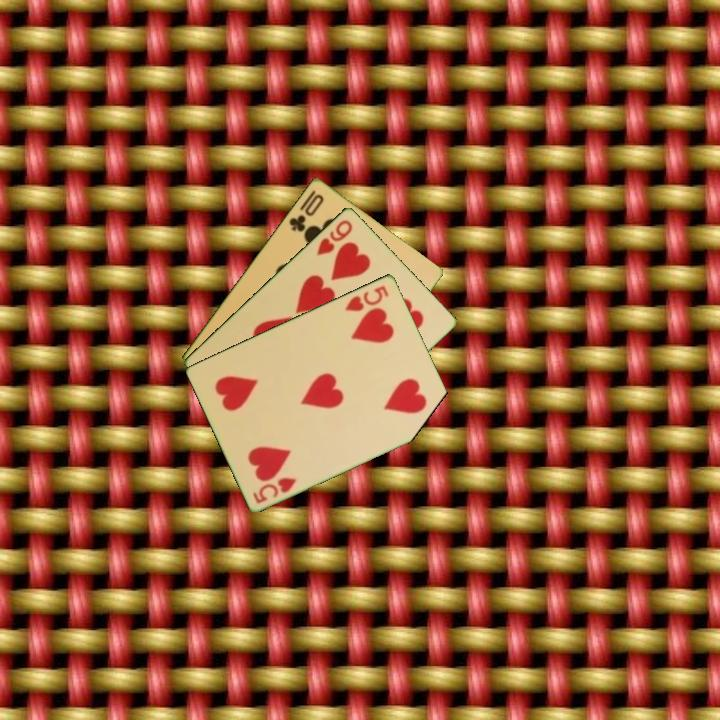10c: (285, 190, 327, 235)
5h: (249, 473, 300, 506), (341, 282, 392, 314)
9h: (313, 216, 355, 258)
